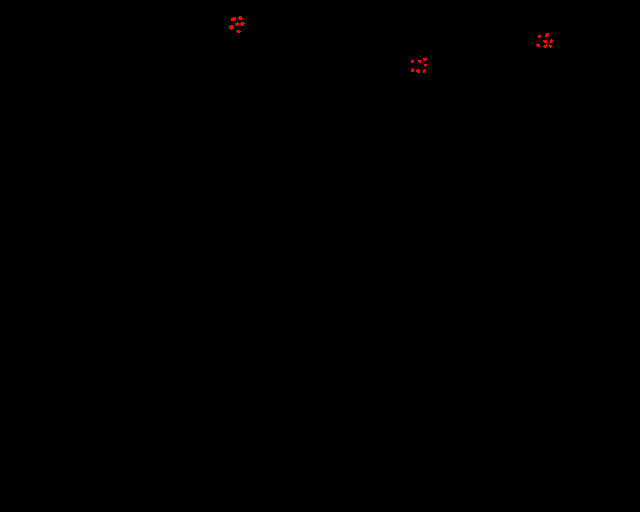Target: (229, 25, 234, 30), (238, 16, 243, 20), (231, 17, 236, 21), (240, 22, 245, 26), (235, 22, 239, 26), (545, 33, 549, 37), (543, 44, 547, 48), (416, 69, 420, 73), (236, 30, 241, 33), (550, 39, 553, 43), (543, 40, 547, 43), (536, 44, 540, 47), (423, 58, 427, 61), (411, 68, 414, 72), (423, 69, 426, 73), (538, 35, 541, 38), (549, 45, 552, 48), (411, 60, 414, 63), (418, 60, 421, 63), (424, 64, 427, 67)
